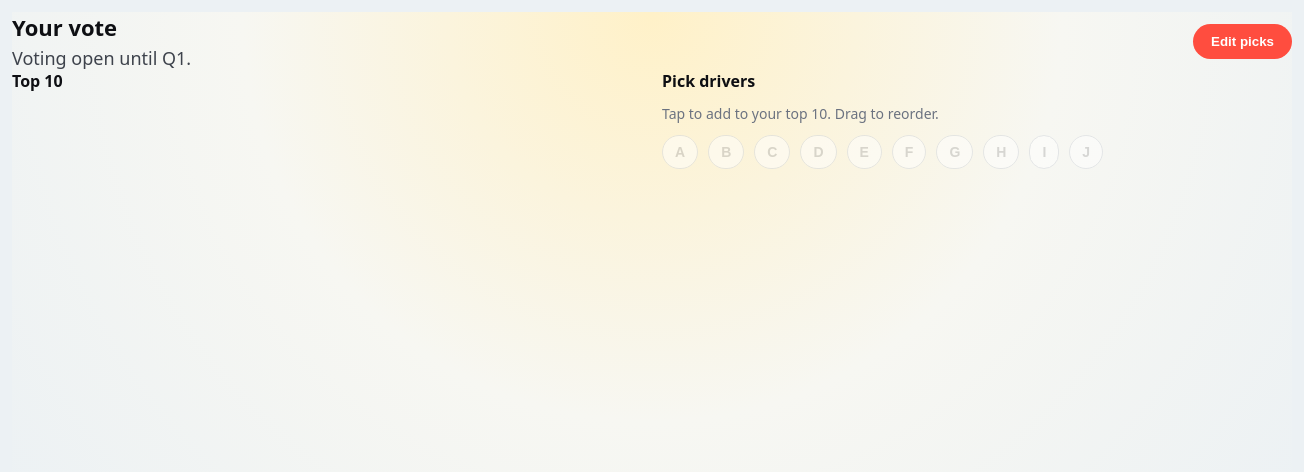
VotingEditor › allows entering edit mode and adding a driver
Step 1. Click the button "Edit picks" → (1242, 41), box [1193,24,1292,58]
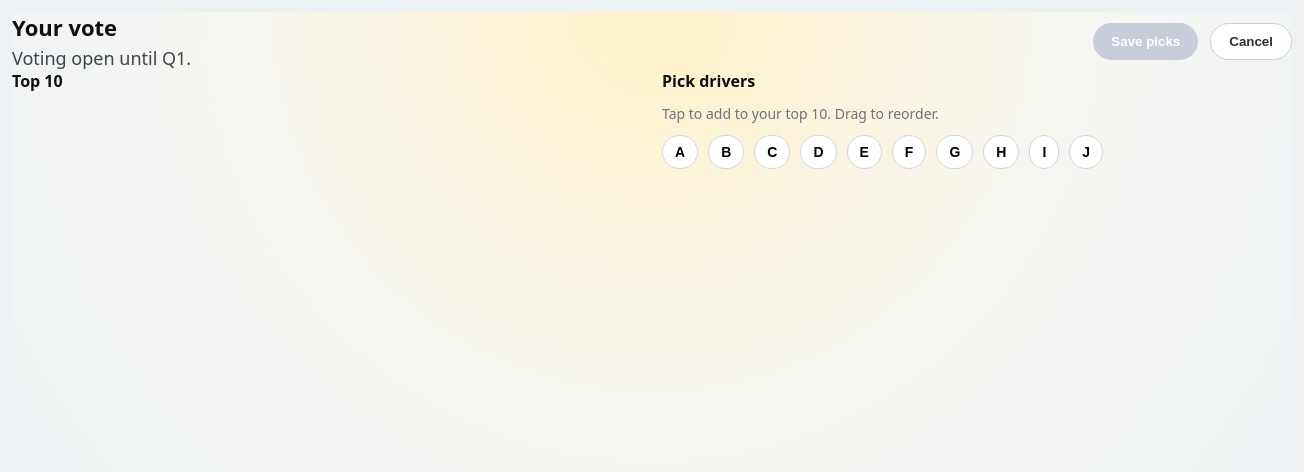
Step 2. Click the button "B" → (726, 152), box [708,135,744,169]
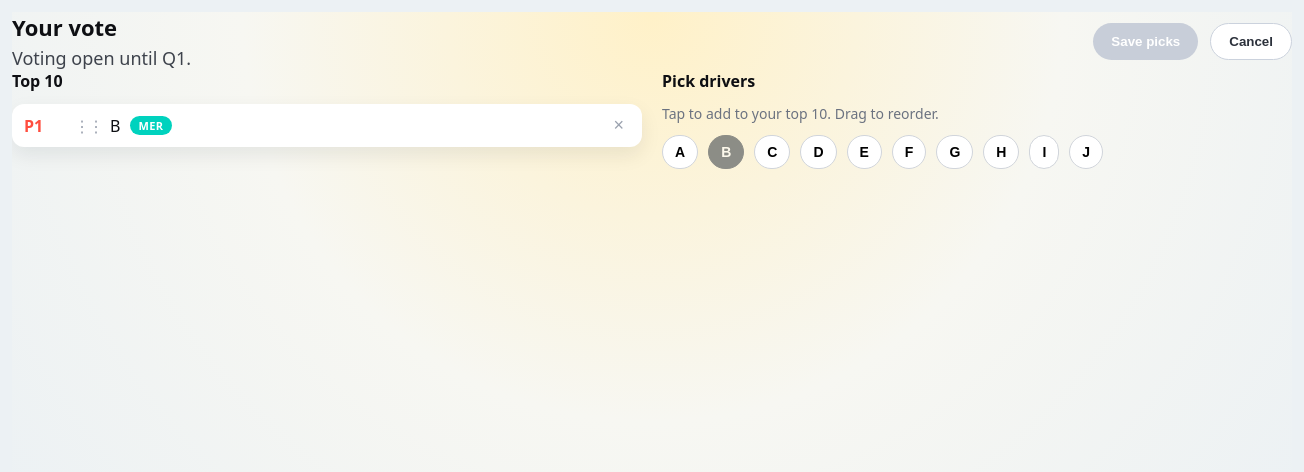
Expected: the element with test id "vote-item" shows "B", [110,114,120,136]
